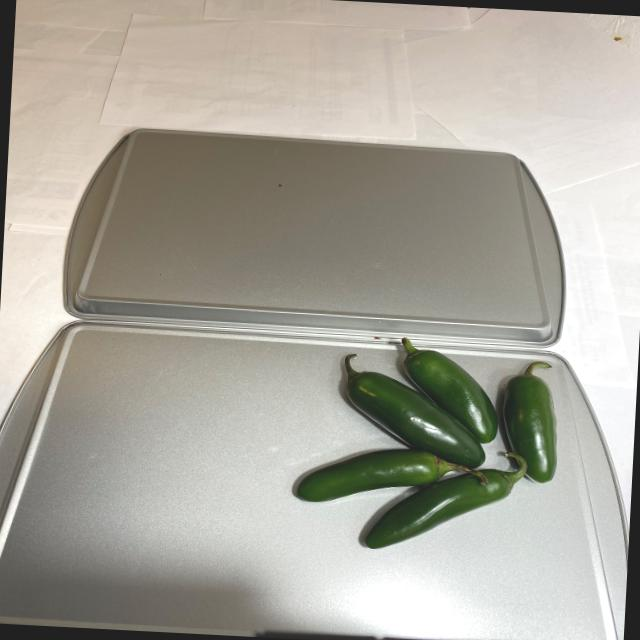chilli: (282, 332, 564, 570)
